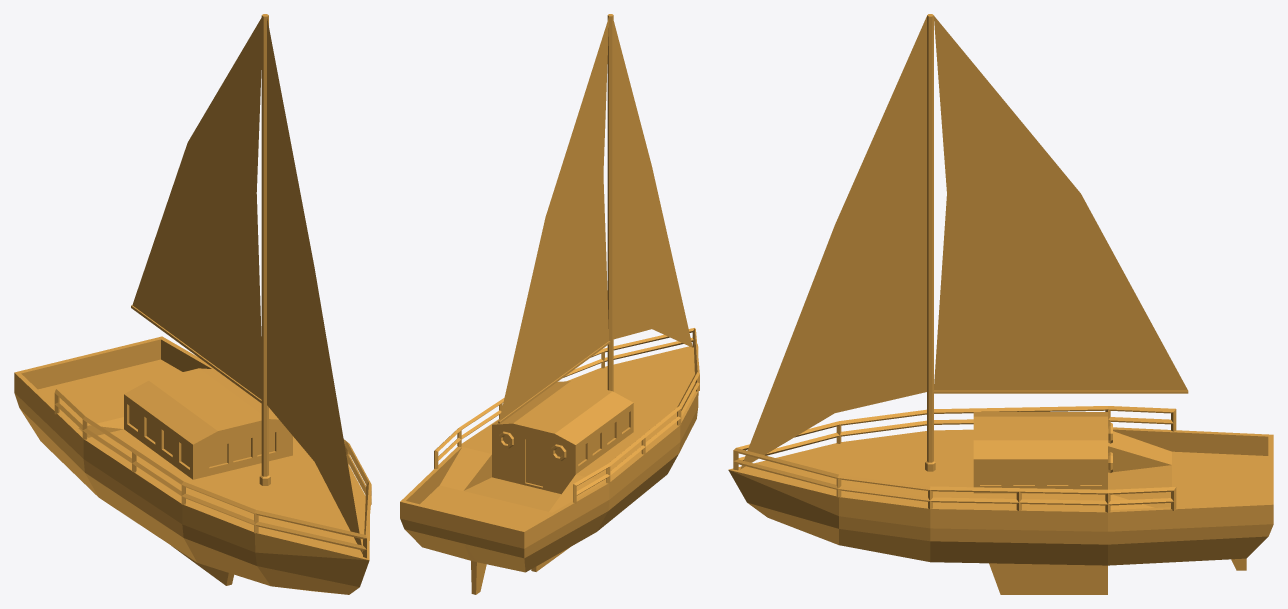
The model's file is boat-sail.glb.
3 renders of one model, left to right at view 1: azimuth 30°, elevation 25°; view 2: azimuth 150°, elevation 25°; view 3: azimuth 270°, elevation 25°, orthographic. The views are drawn at different scales.
Visible parts, largest first — view 1: boat-sail; view 2: boat-sail; view 3: boat-sail.
Boxes of the visible parts, bbox=[...] form: boat-sail: bbox=[14, 14, 371, 594]; boat-sail: bbox=[400, 14, 699, 594]; boat-sail: bbox=[728, 14, 1273, 594].
Size of the model in its own units: 7.61 by 23.8 by 20.35.
